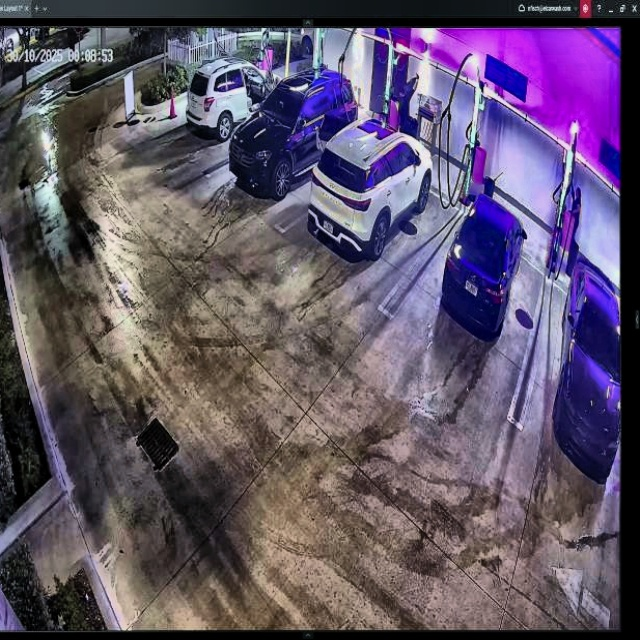Car: (309, 119, 433, 262), (228, 71, 358, 199), (443, 192, 527, 343)
